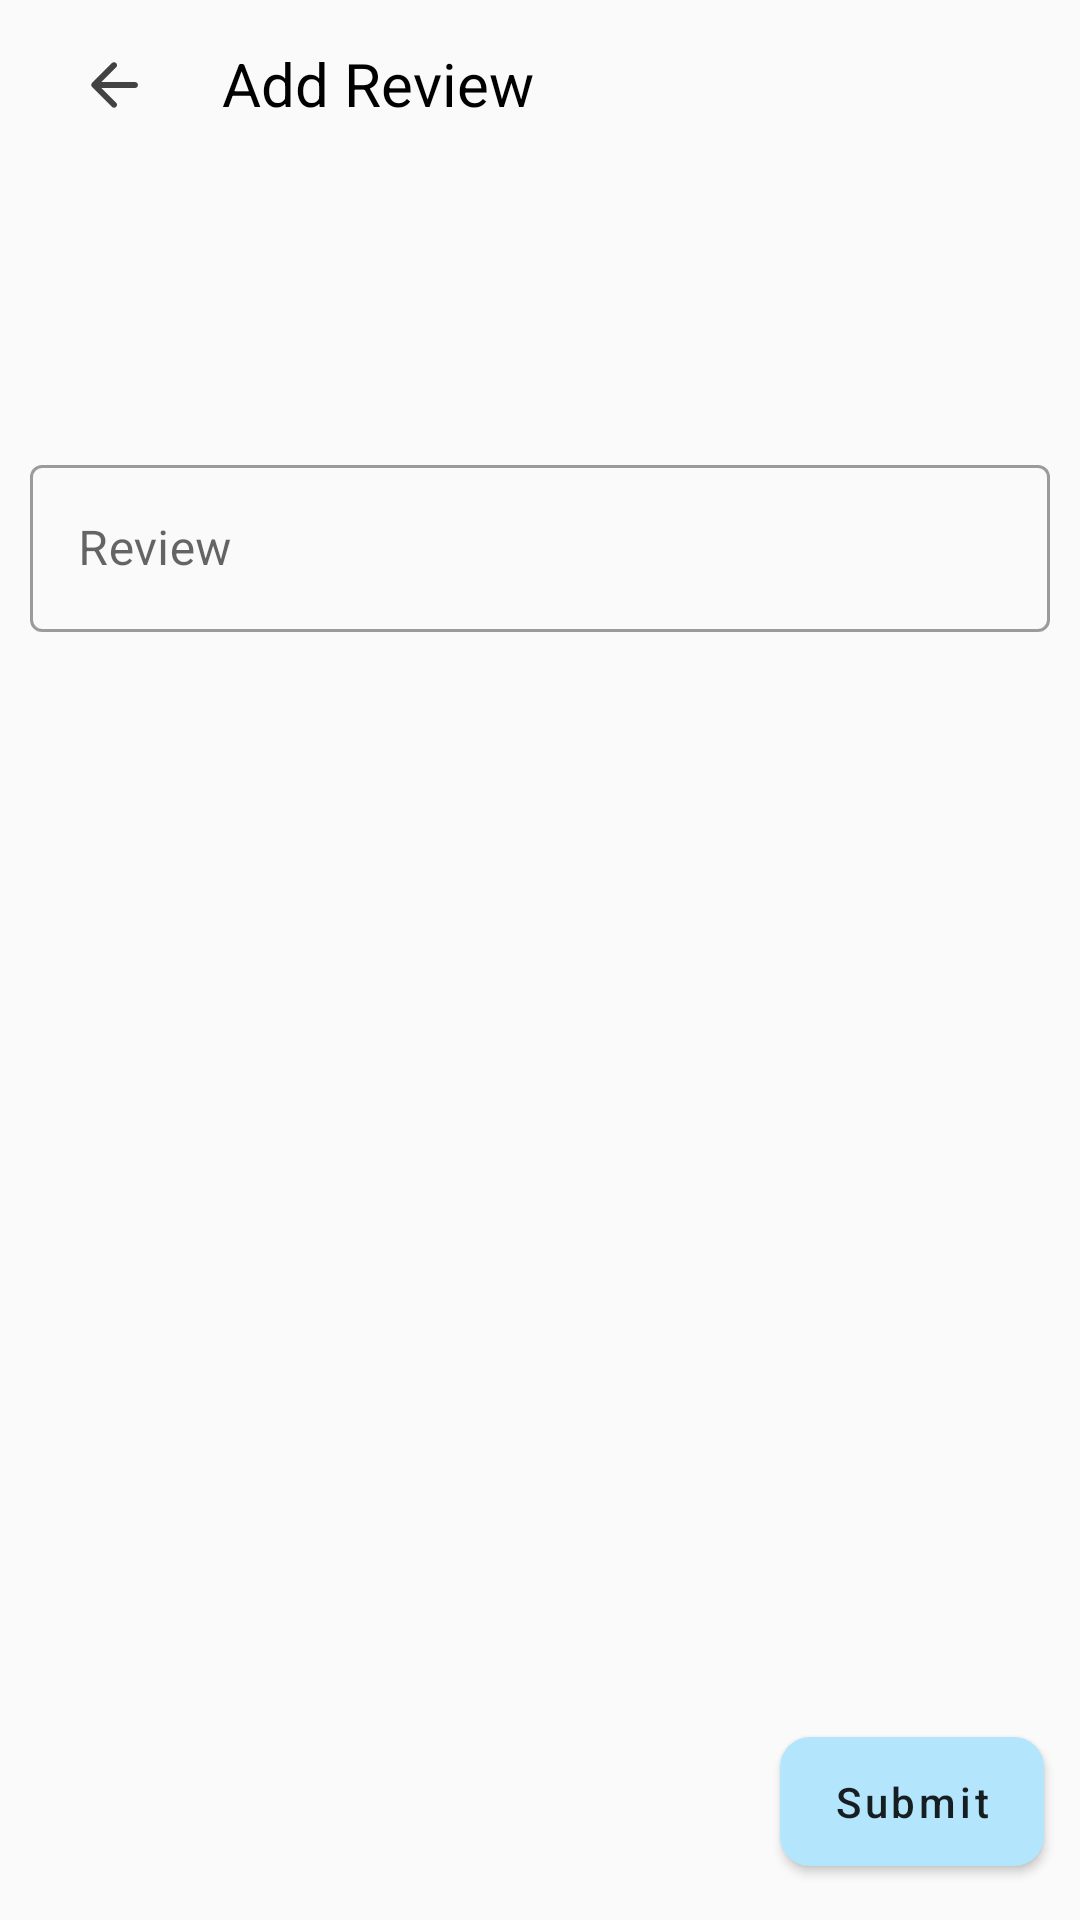

Named icons in this screenshot (1080x1920) and their centers, (x=x, y=y):
Back Button: (x=114, y=85)
